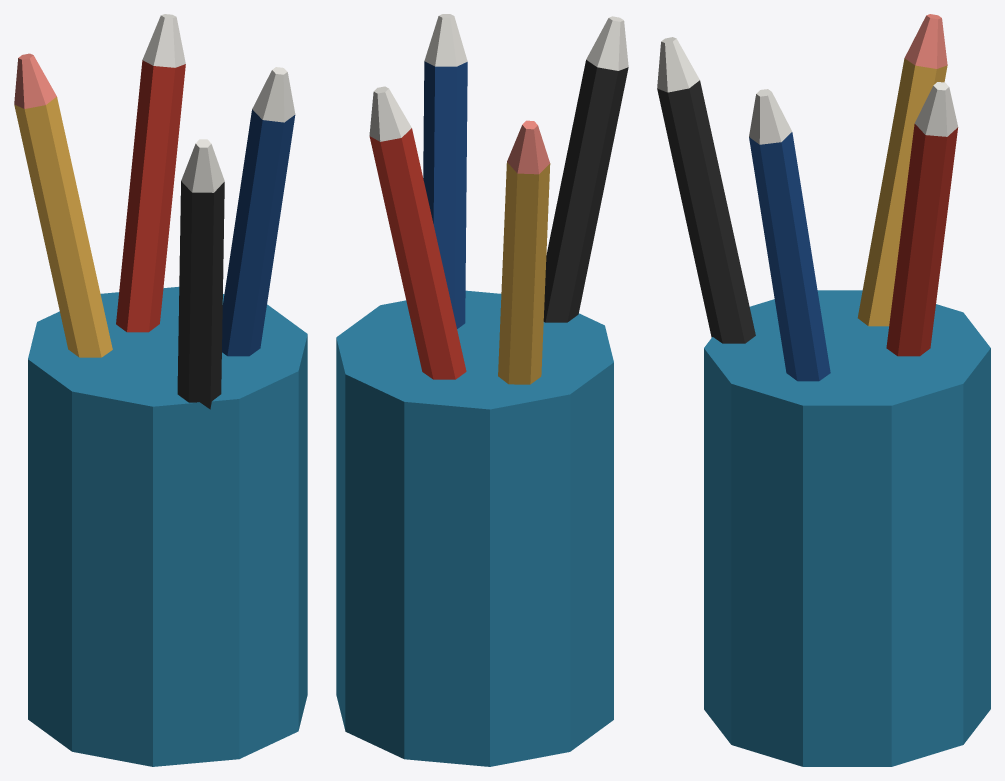
File: pen_cup.glb
3 views of the same model, side by side, from view 1: azimuth 30°, elevation 25°; view 2: azimuth 150°, elevation 25°; view 3: azimuth 270°, elevation 25° (orthographic).
Parts seen in each view (by area): view 1: PenCup; view 2: PenCup; view 3: PenCup.
Boxes of the visible parts, left/top/right/bottom form: PenCup: left=14, top=14, right=307, bottom=766; PenCup: left=336, top=14, right=628, bottom=766; PenCup: left=657, top=14, right=990, bottom=766.
Size of the model in its own units: 0.0685 by 0.1805 by 0.0837.
